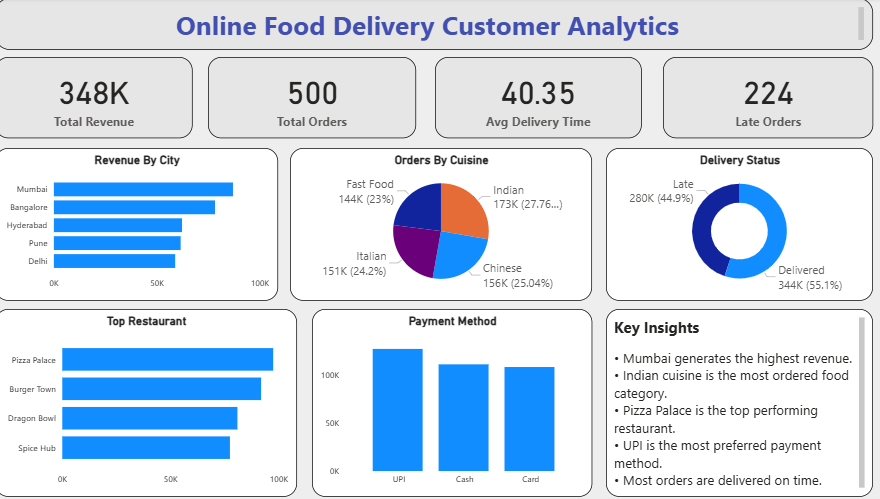

The dashboard page shown, as its layout file describes it:
{"tool":"powerbi","page":{"name":"Page 1","canvas":[1280,720],"ordinal":0},"visuals":[{"type":"textbox","box":[12.8,0,1252.9,74.2],"z":0},{"type":"card","fields":{"Values":["Online_Food_Delivery.Total Revenue"]},"box":[12.5,84,282.5,116.2],"z":1},{"type":"card","fields":{"Values":["Online_Food_Delivery.Total Orders"]},"box":[316.4,84,296.8,116.2],"z":2},{"type":"card","fields":{"Values":["Online_Food_Delivery.Avg Delivery Time"]},"box":[640,84,295,116.2],"z":3},{"type":"card","fields":{"Values":["Online_Food_Delivery.Late Orders"]},"box":[965.4,84,300.3,116.2],"z":4},{"type":"clusteredBarChart","title":"Revenue By City","fields":{"Category":["Online_Food_Delivery.city"],"Y":["Sum(Online_Food_Delivery.order_amount)"]},"box":[12.5,214.5,404,218.1],"z":5},{"type":"pieChart","title":"Orders By Cuisine","fields":{"Category":["Online_Food_Delivery.cuisine"],"Y":["Sum(Online_Food_Delivery.order_id)"]},"box":[434.4,214.5,430.8,218.1],"z":6},{"type":"donutChart","title":"Delivery Status","fields":{"Category":["Online_Food_Delivery.delivery_status"],"Y":["Sum(Online_Food_Delivery.order_id)"]},"box":[884.9,214.5,380.8,218.1],"z":7},{"type":"clusteredBarChart","title":"Top Restaurant","fields":{"Y":["Sum(Online_Food_Delivery.order_amount)"],"Category":["Online_Food_Delivery.restaurant_name"]},"box":[12.5,443.4,430.8,268.2],"z":9},{"type":"clusteredColumnChart","title":"Payment Method","fields":{"Category":["Online_Food_Delivery.payment_method"],"Y":["Sum(Online_Food_Delivery.order_amount)"]},"box":[465.2,443.8,399.6,268.3],"z":10},{"type":"textbox","box":[884.9,443.4,380.8,268.2],"z":11}]}

Visuals, with their boxes in screenshot pixels (x1, y1, x2, y2), scaled from the page's 1280x720 canvas onto the 880x499 screenshot:
textbox: box=[9, 0, 870, 51]
card - Online_Food_Delivery.Total Revenue: box=[9, 58, 203, 139]
card - Online_Food_Delivery.Total Orders: box=[218, 58, 422, 139]
card - Online_Food_Delivery.Avg Delivery Time: box=[440, 58, 643, 139]
card - Online_Food_Delivery.Late Orders: box=[664, 58, 870, 139]
"Revenue By City" clusteredBarChart: box=[9, 149, 286, 300]
"Orders By Cuisine" pieChart: box=[299, 149, 595, 300]
"Delivery Status" donutChart: box=[608, 149, 870, 300]
"Top Restaurant" clusteredBarChart: box=[9, 307, 305, 493]
"Payment Method" clusteredColumnChart: box=[320, 308, 595, 494]
textbox: box=[608, 307, 870, 493]
